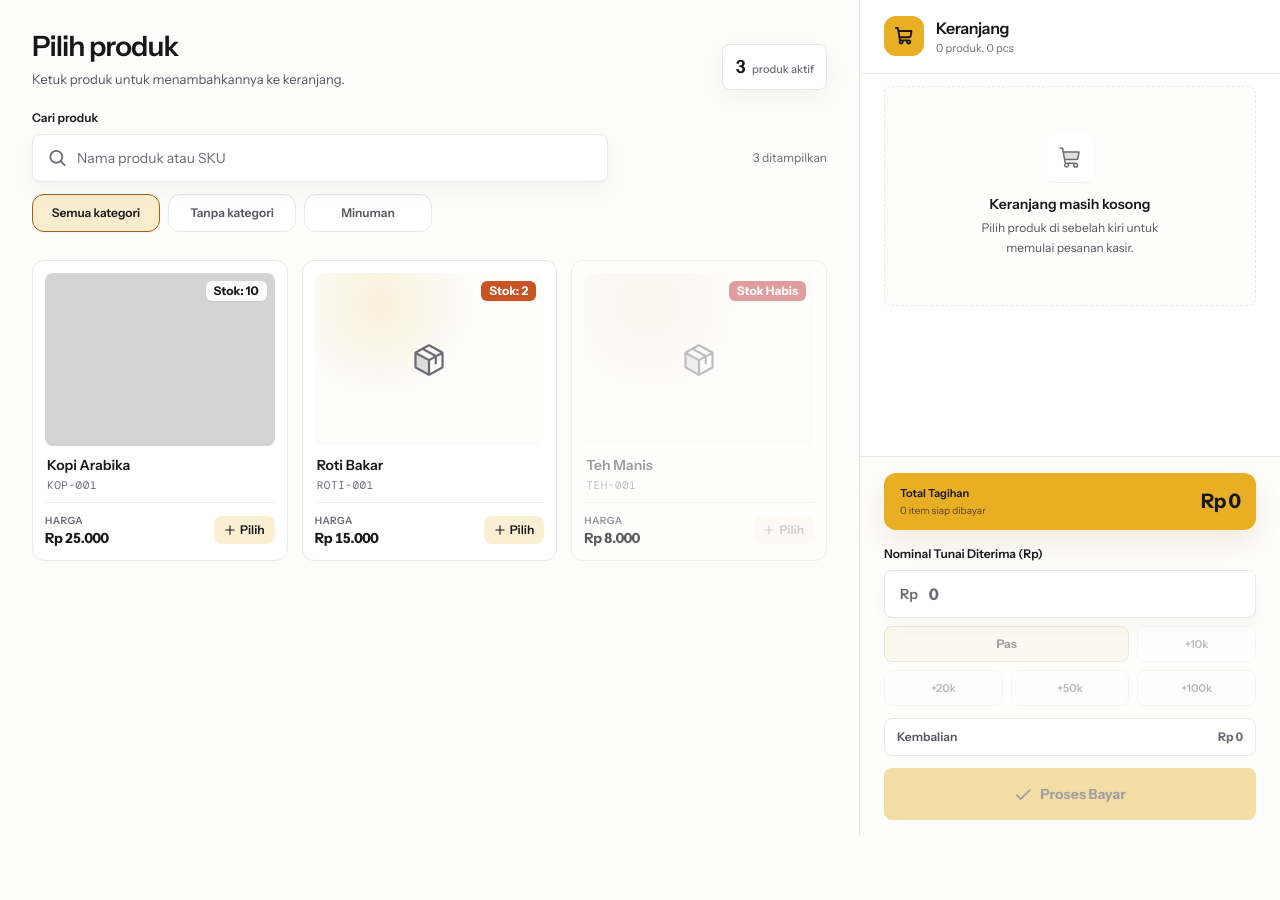
Test case: CheckoutView Component › announces product selection and shows the derived line subtotal
Click the button with aria-label "Tambah Kopi Arabika ke keranjang" at coordinates (160, 388), box [45,274,275,502]
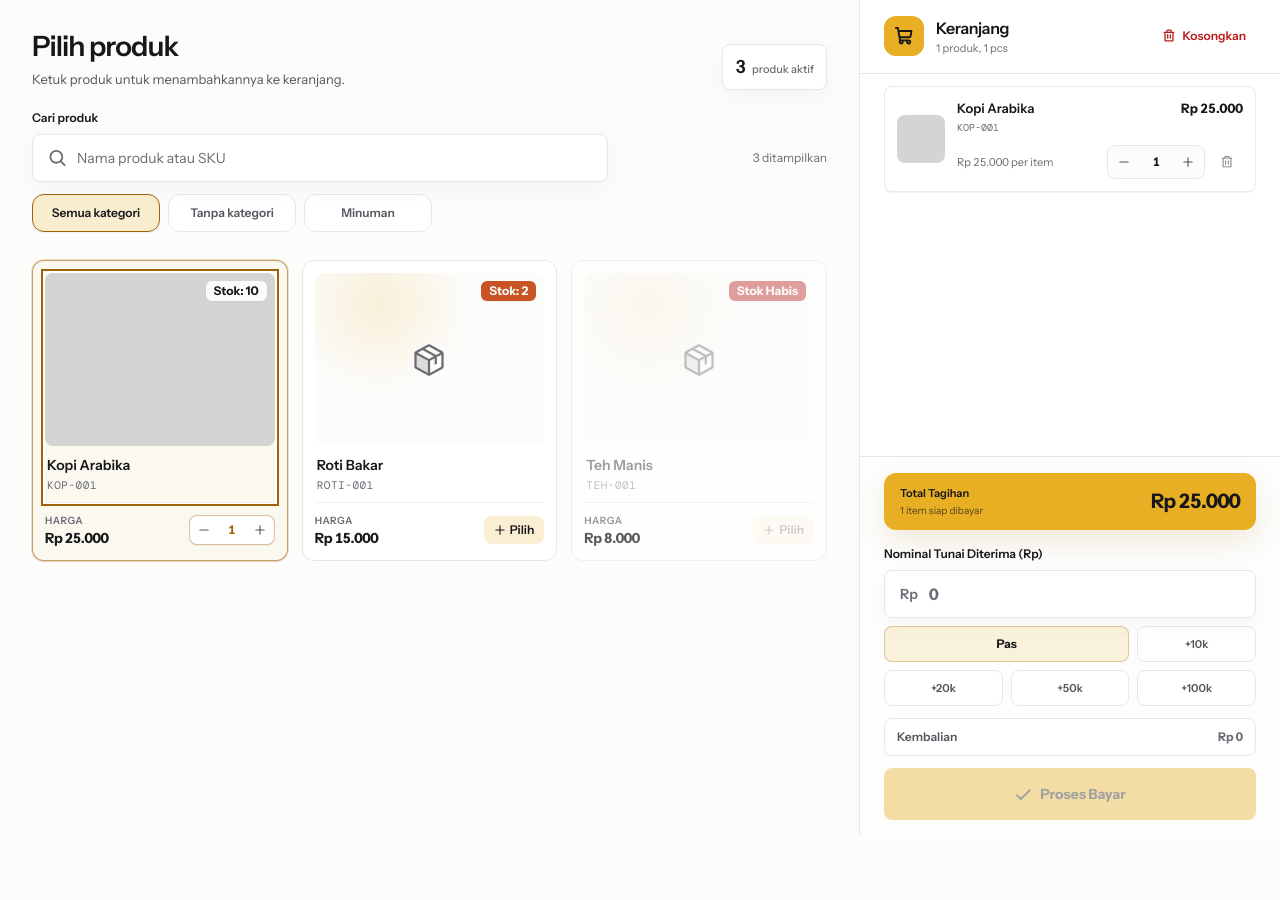
Click the button with aria-label "Tambah Kopi Arabika ke keranjang" at coordinates (160, 388), box [45,274,275,502]
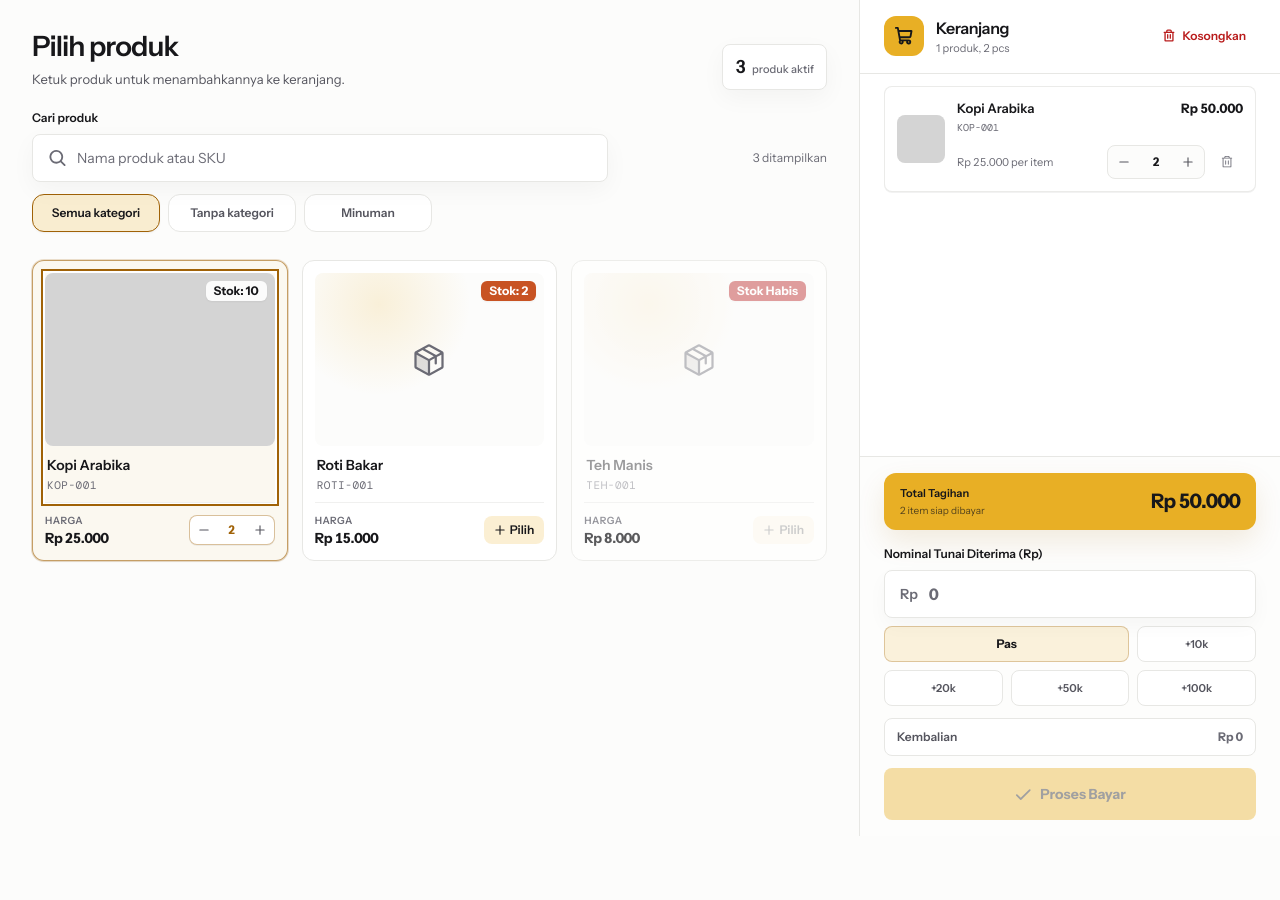
Now the text named "Subtotal Kopi Arabika" reads "Rp 50.000", box [1181,100,1243,116]
